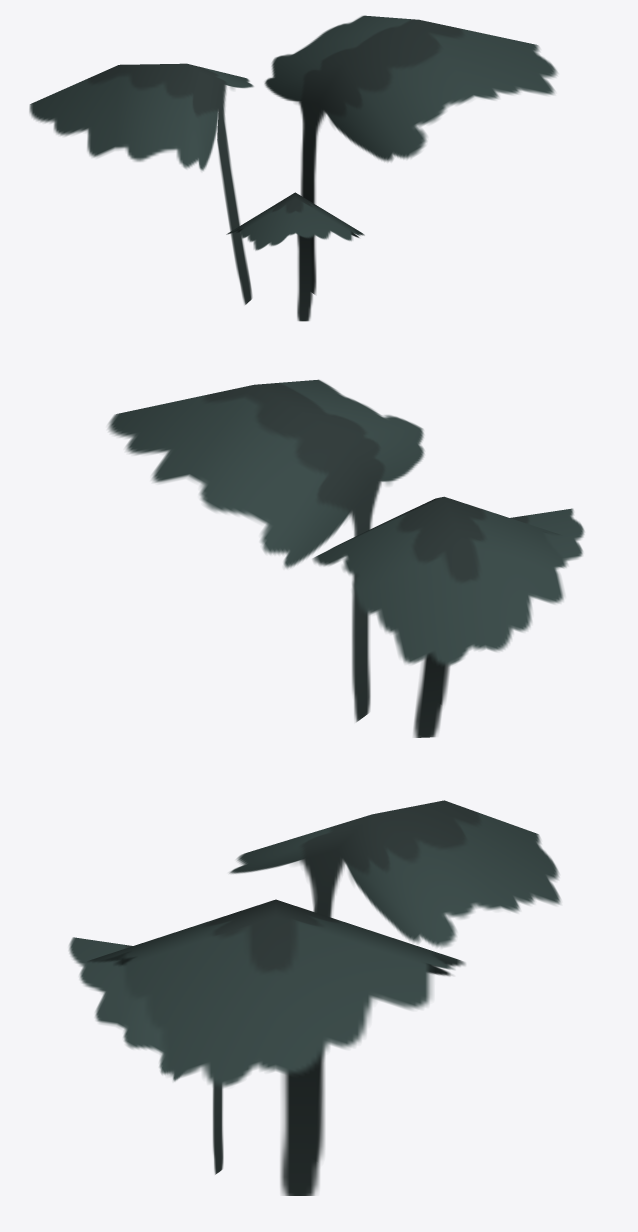
Rendered from env_plant1_painty_01_v1.glb.
The picture shows the model from 3 angles, top to bottom: view 1: azimuth 30°, elevation 25°; view 2: azimuth 150°, elevation 25°; view 3: azimuth 270°, elevation 25°; orthographic projection. The views are drawn at different scales.
Parts seen in each view (by area): view 1: grass_plane.009; view 2: grass_plane.009; view 3: grass_plane.009.
Part boxes in pixels (x1,y1,x2,y2): grass_plane.009: [29, 15, 557, 321]; grass_plane.009: [108, 379, 584, 737]; grass_plane.009: [69, 800, 560, 1195].
Size of the model in its own units: 0.7027 by 0.3479 by 0.5547.
1 material, 1 textured.
